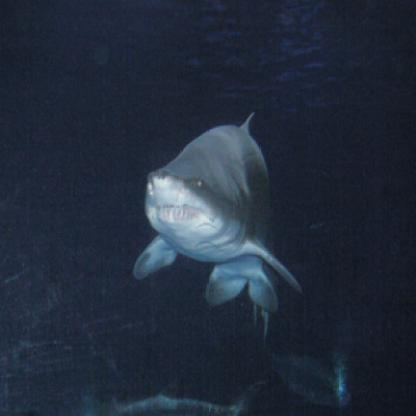shark: (132, 112, 307, 350)
